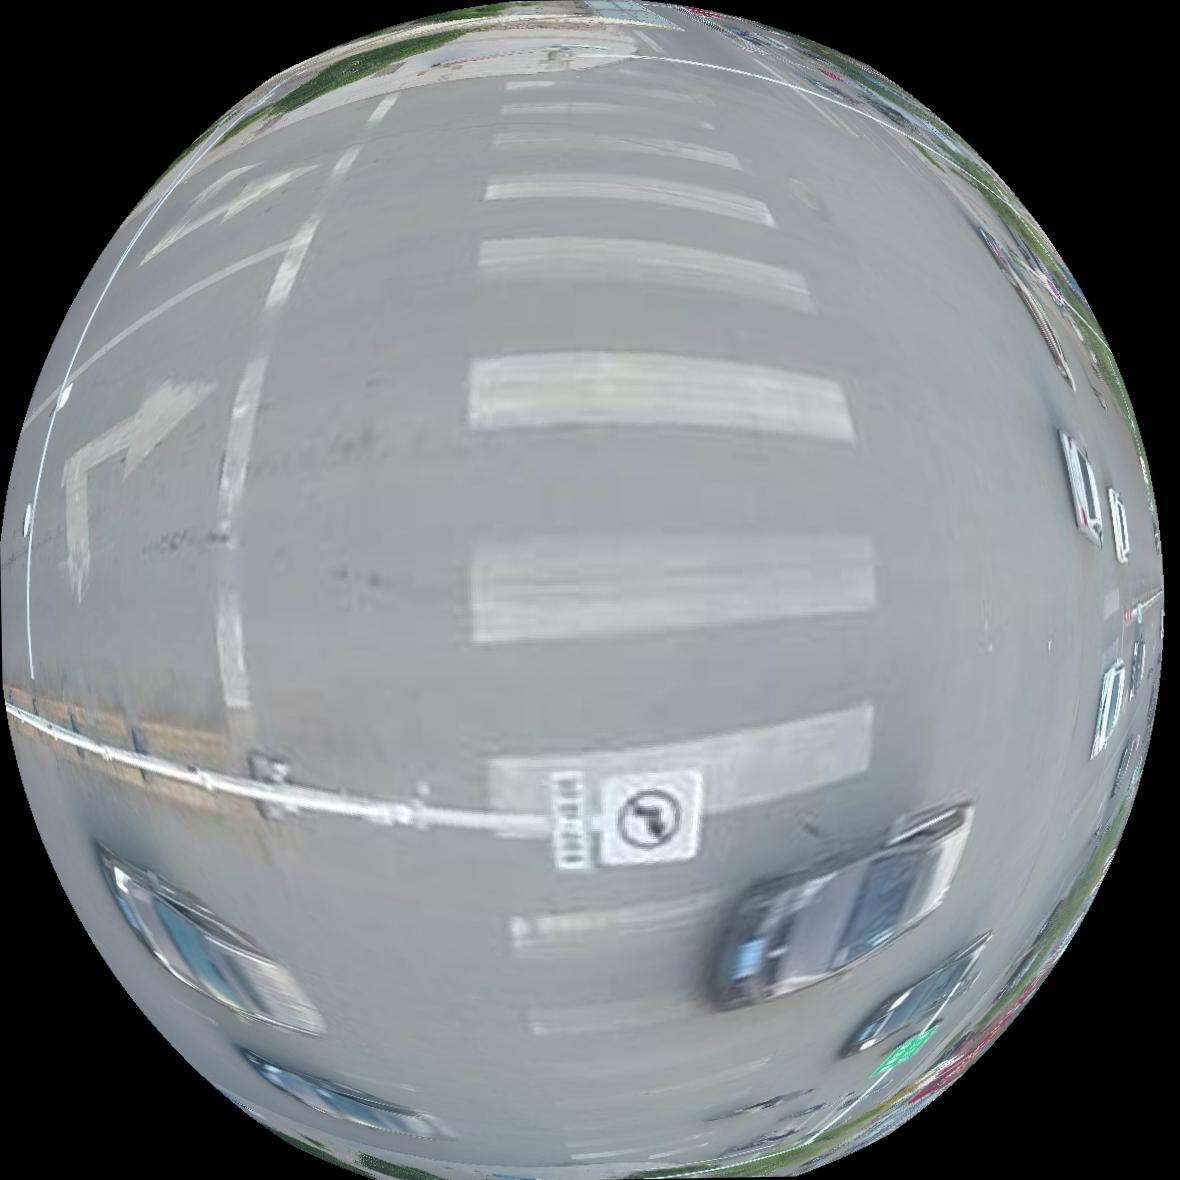cars: (714, 805, 973, 1009), (98, 848, 324, 1036), (241, 1050, 454, 1140), (843, 935, 991, 1059), (1060, 430, 1104, 545), (1091, 658, 1127, 761), (1108, 487, 1130, 563)
